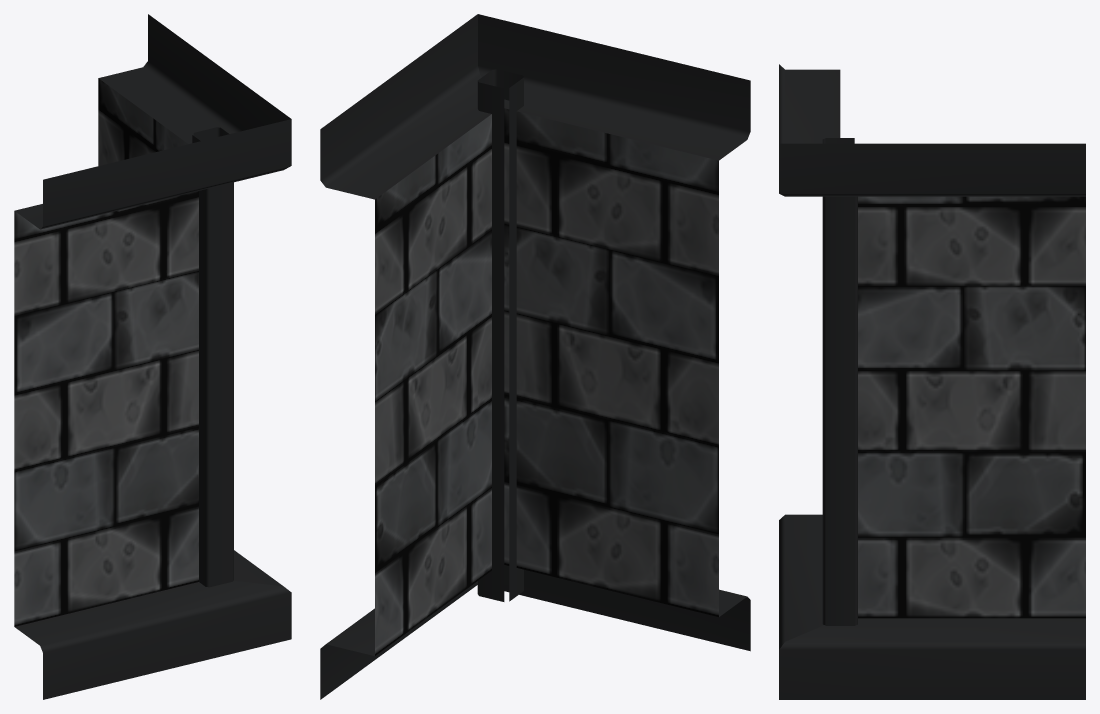
File: M_Wall_Angle_Exterior_Half.fbx
3 views of the same model, side by side, from view 1: azimuth 30°, elevation 25°; view 2: azimuth 150°, elevation 25°; view 3: azimuth 270°, elevation 25° (orthographic). The views are drawn at different scales.
Visible parts, largest first — view 1: Wall_Angle_Exterior_Half; view 2: Wall_Angle_Exterior_Half; view 3: Wall_Angle_Exterior_Half.
Boxes of the visible parts, box(x1,y1,x2,y2) form: Wall_Angle_Exterior_Half: box(14, 14, 291, 699); Wall_Angle_Exterior_Half: box(320, 14, 750, 699); Wall_Angle_Exterior_Half: box(779, 64, 1085, 699).
Bounding box in the file's own units: 100 × 200 × 100.
